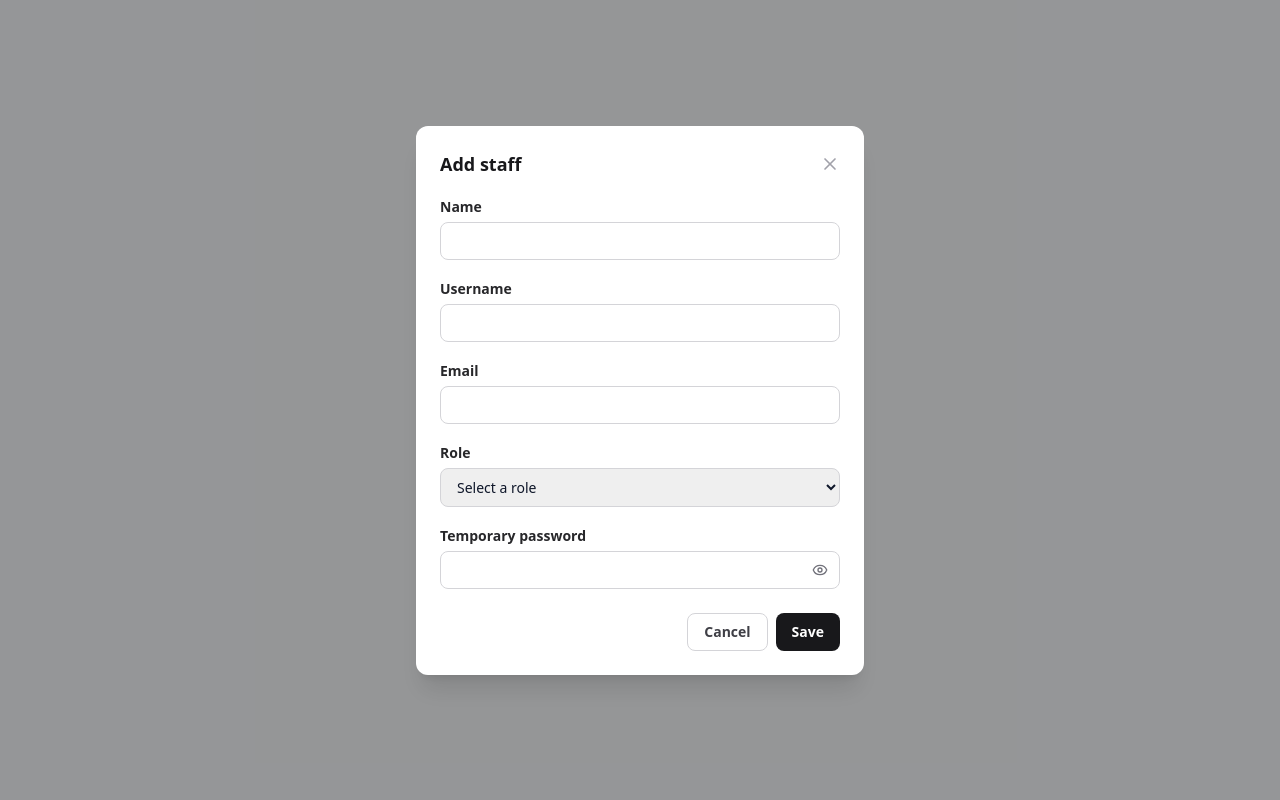
Test: StaffFormModal (IMS-07) › shows the server EMAIL_TAKEN error inline
Type "Rafi Ahmed" into the field labelled "Name".
click(640, 240); type("Rafi Ahmed")  # box x1=440 y1=222 x2=840 y2=260
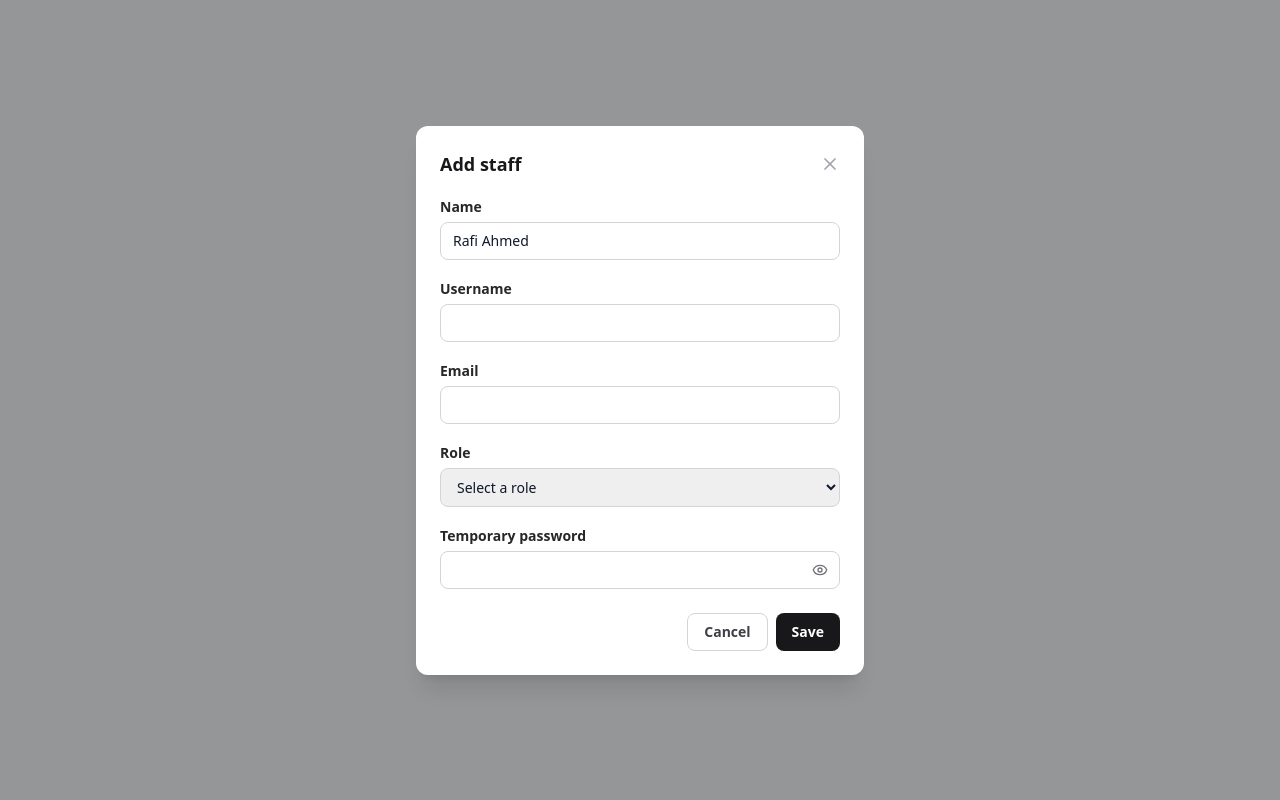
Type "rafi" into the field labelled "Username".
click(640, 322); type("rafi")  # box x1=440 y1=304 x2=840 y2=342
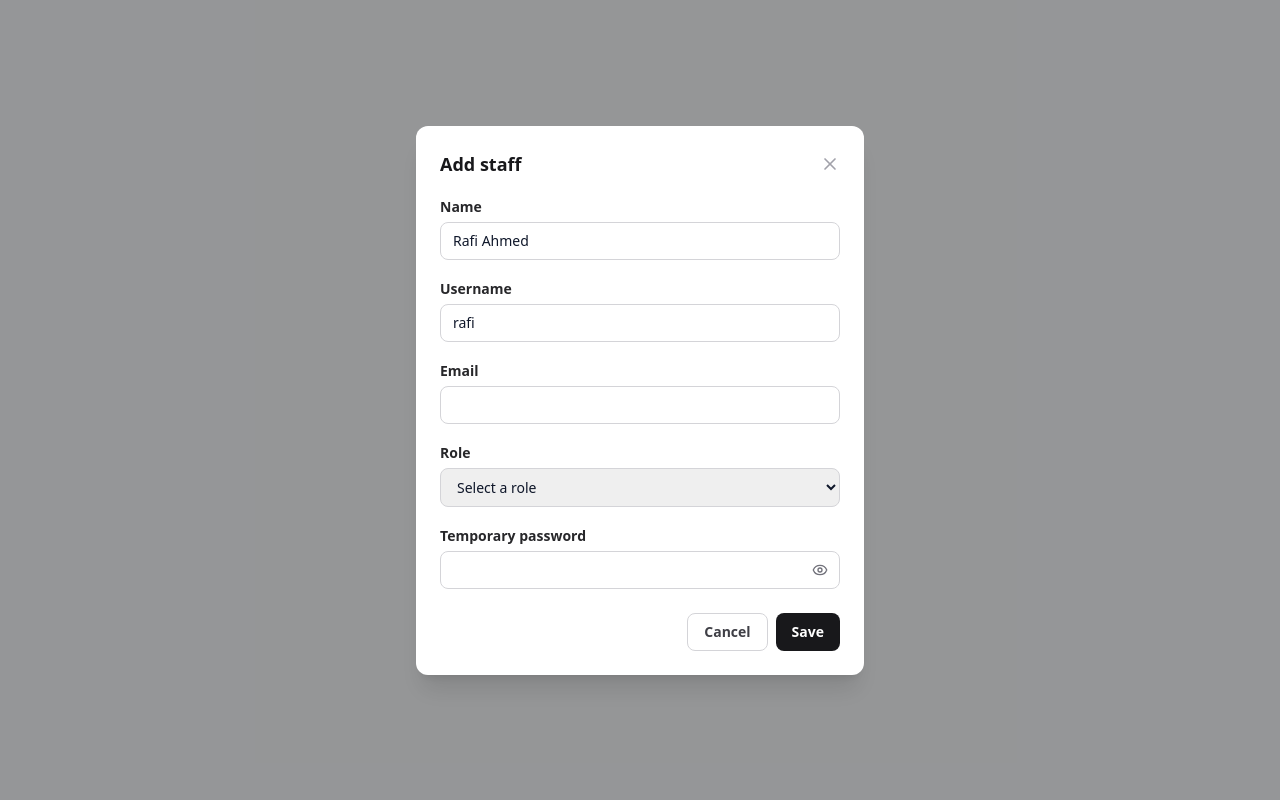
Type "rafi@example.com" into the field labelled "Email".
click(640, 404); type("rafi@example.com")  # box x1=440 y1=386 x2=840 y2=424
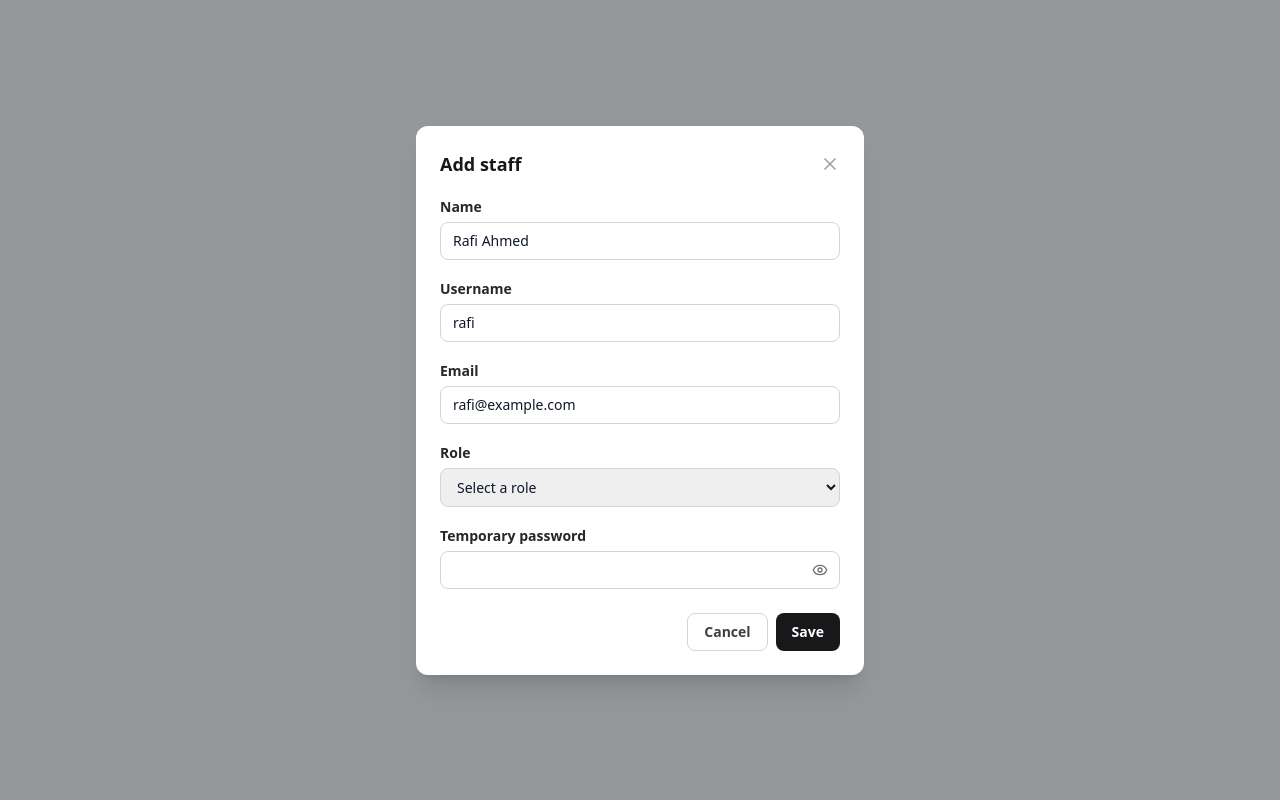
Select "Sales Staff" in the dropdown labelled "Role" at (640, 487), box x1=440 y1=468 x2=840 y2=506
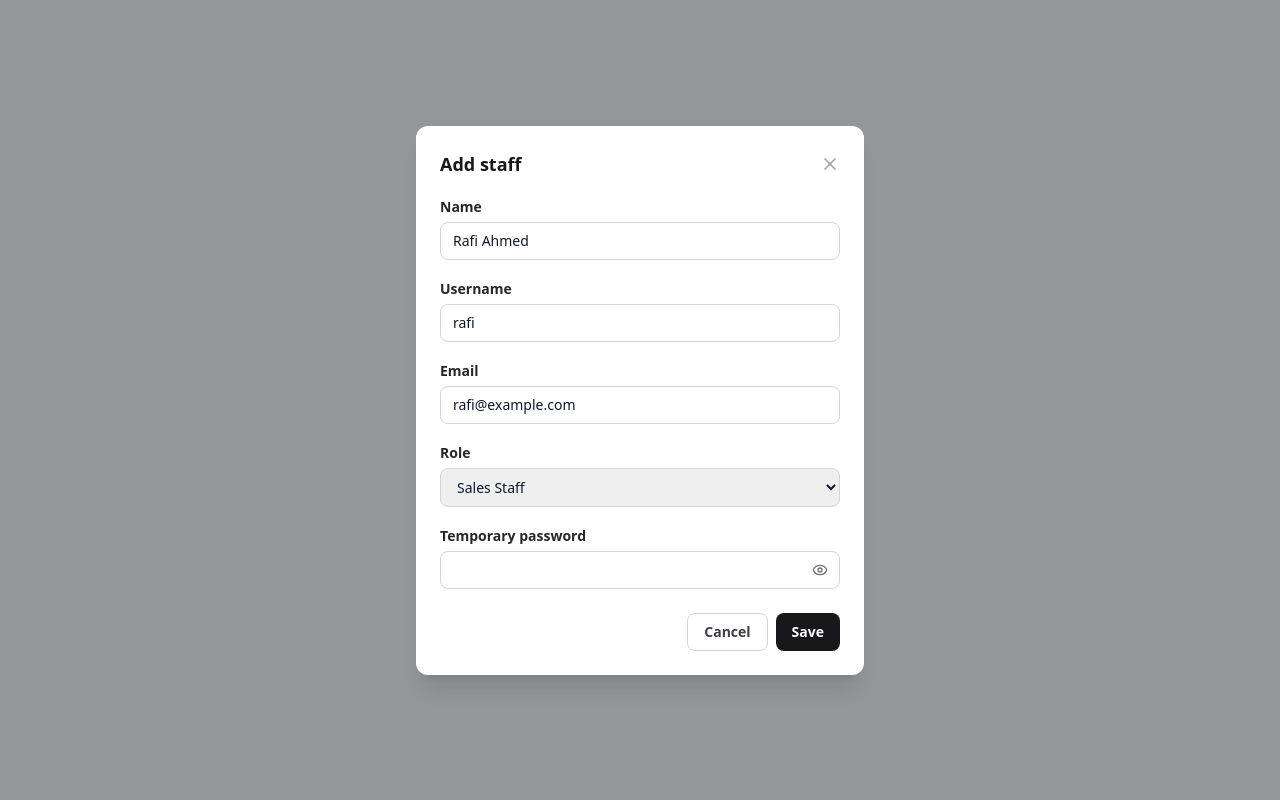
Type "temporary123" into the password field labelled "Temporary password".
click(640, 570); type("temporary123")  # box x1=440 y1=550 x2=840 y2=588
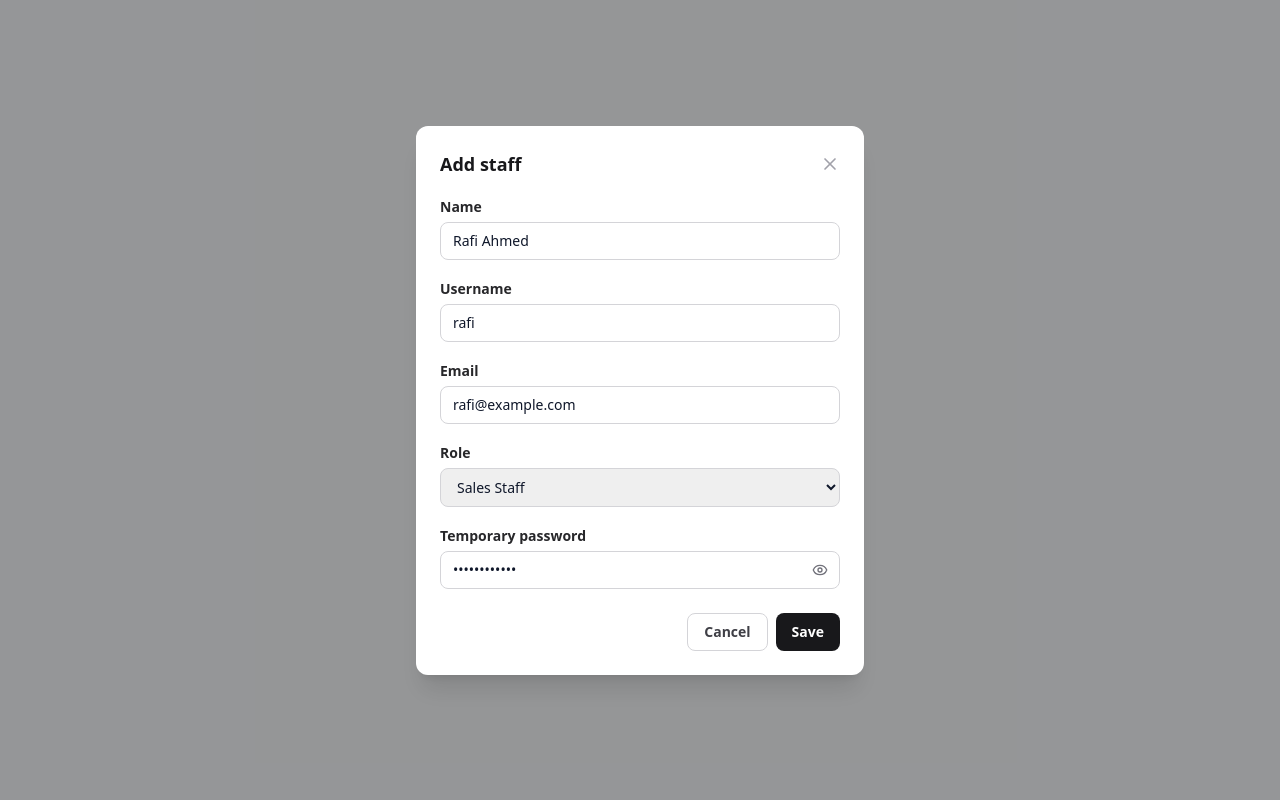
Click the button "Save".
click(808, 632)  # box x1=776 y1=612 x2=840 y2=650
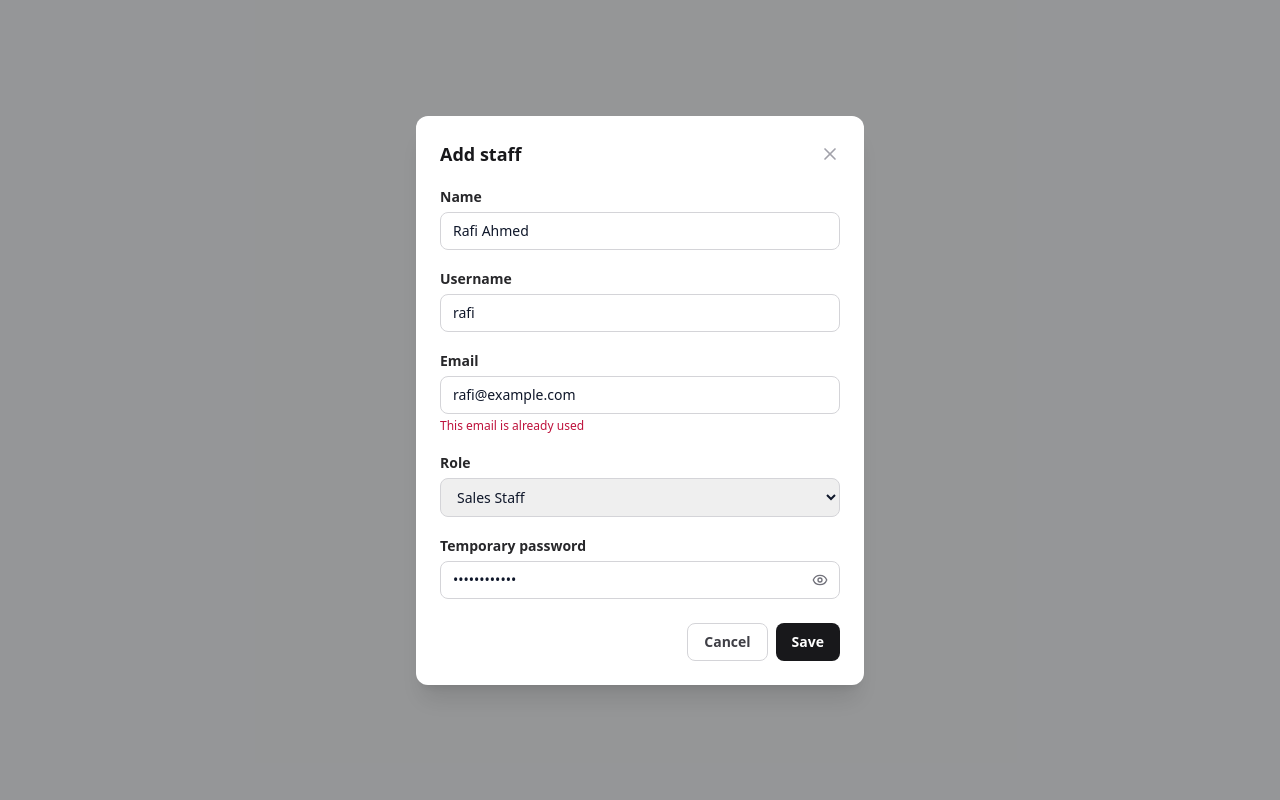
Expected: the text "This email is already used" is shown, x1=440 y1=416 x2=584 y2=434
